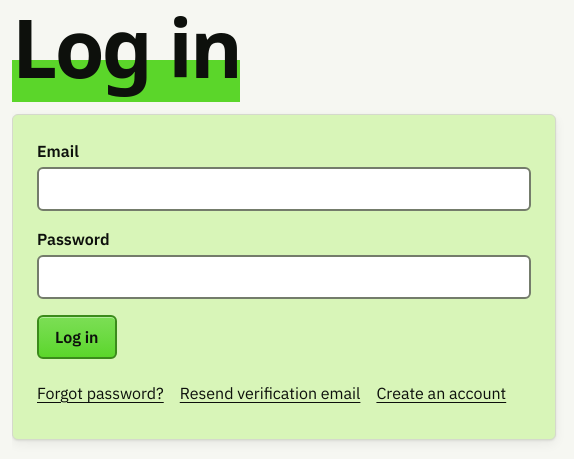
Scenario: signing in › cannot be pressed again while waiting
Type "owner@example.test" into the field labelled "Email".
click(284, 189); type("owner@example.test")  # box [37, 167, 531, 211]
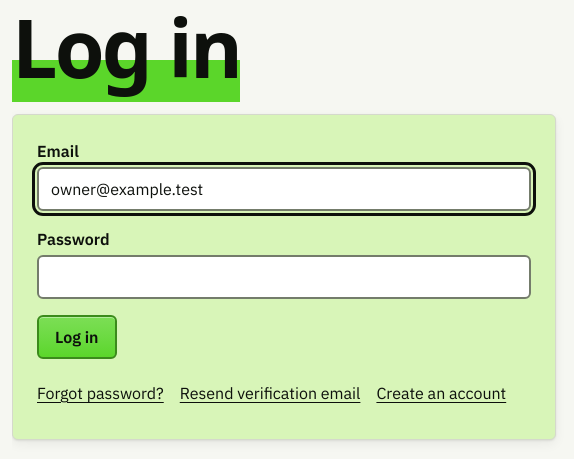
Type "the-right-password-1" into the password field labelled "Password".
click(284, 277); type("the-right-password-1")  # box [37, 255, 531, 299]
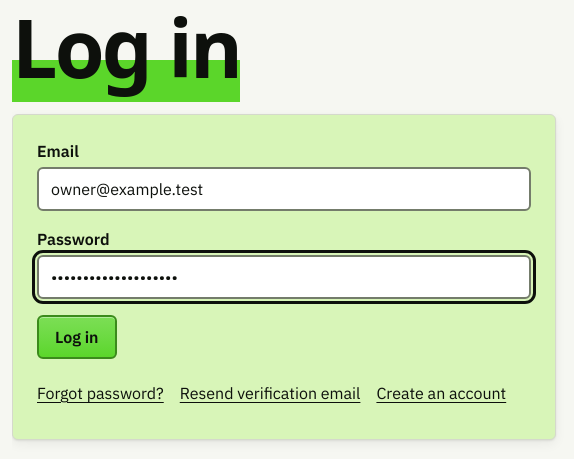
Click the button "Log in".
click(77, 337)  # box [37, 315, 116, 359]
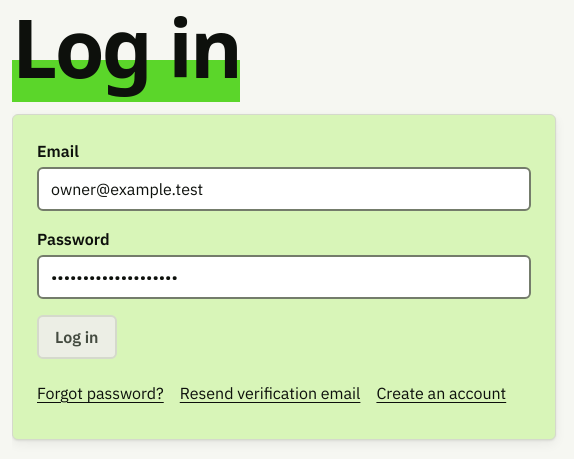
expect the button "Log in" is disabled: met, box [37, 315, 116, 359]
